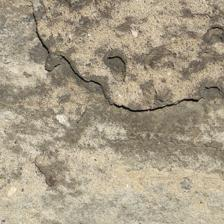Crack: (16, 4, 189, 112)
